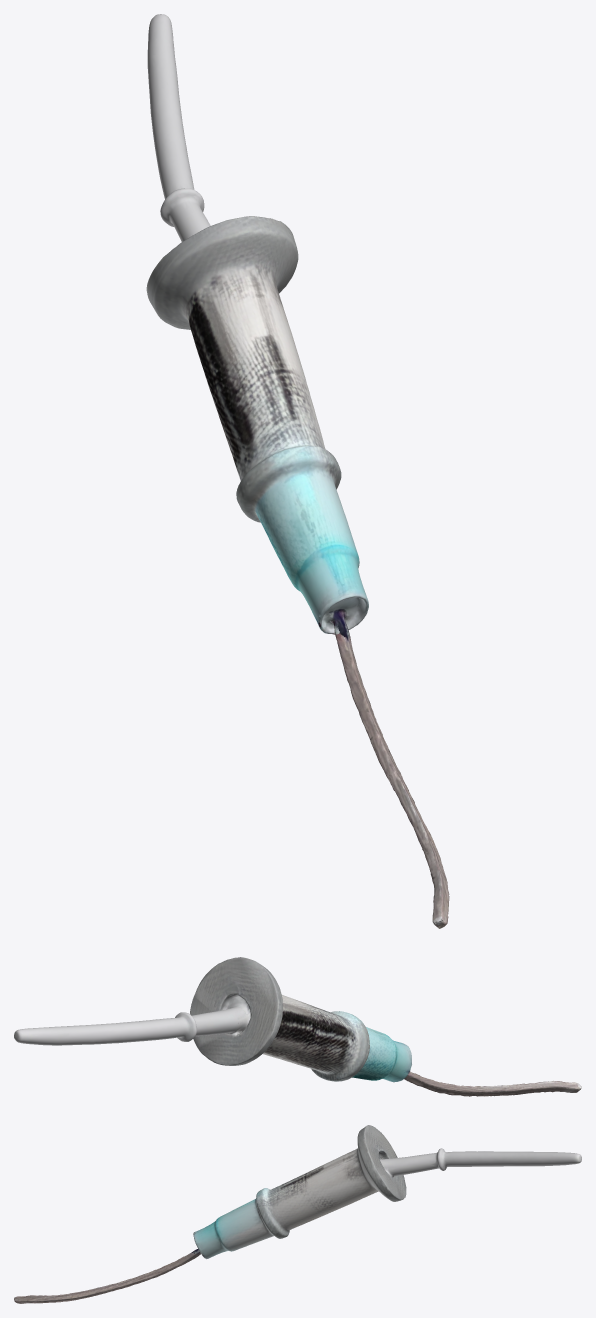
The model's file is vet_equip_iv_catheter.glb.
3 views of the same model, one above another, from view 1: azimuth 30°, elevation 25°; view 2: azimuth 150°, elevation 25°; view 3: azimuth 270°, elevation 25° (orthographic). The views are drawn at different scales.
Parts seen in each view (by area): view 1: model; view 2: model; view 3: model.
Part boxes in pixels (box(x1,y1,x2,y2)): model: box(146, 14, 449, 928); model: box(14, 957, 581, 1096); model: box(14, 1125, 581, 1303).
Bounding box in the file's own units: 0.5721 × 0.8027 × 1.9.
Materials: 1 (1 with a texture image).
